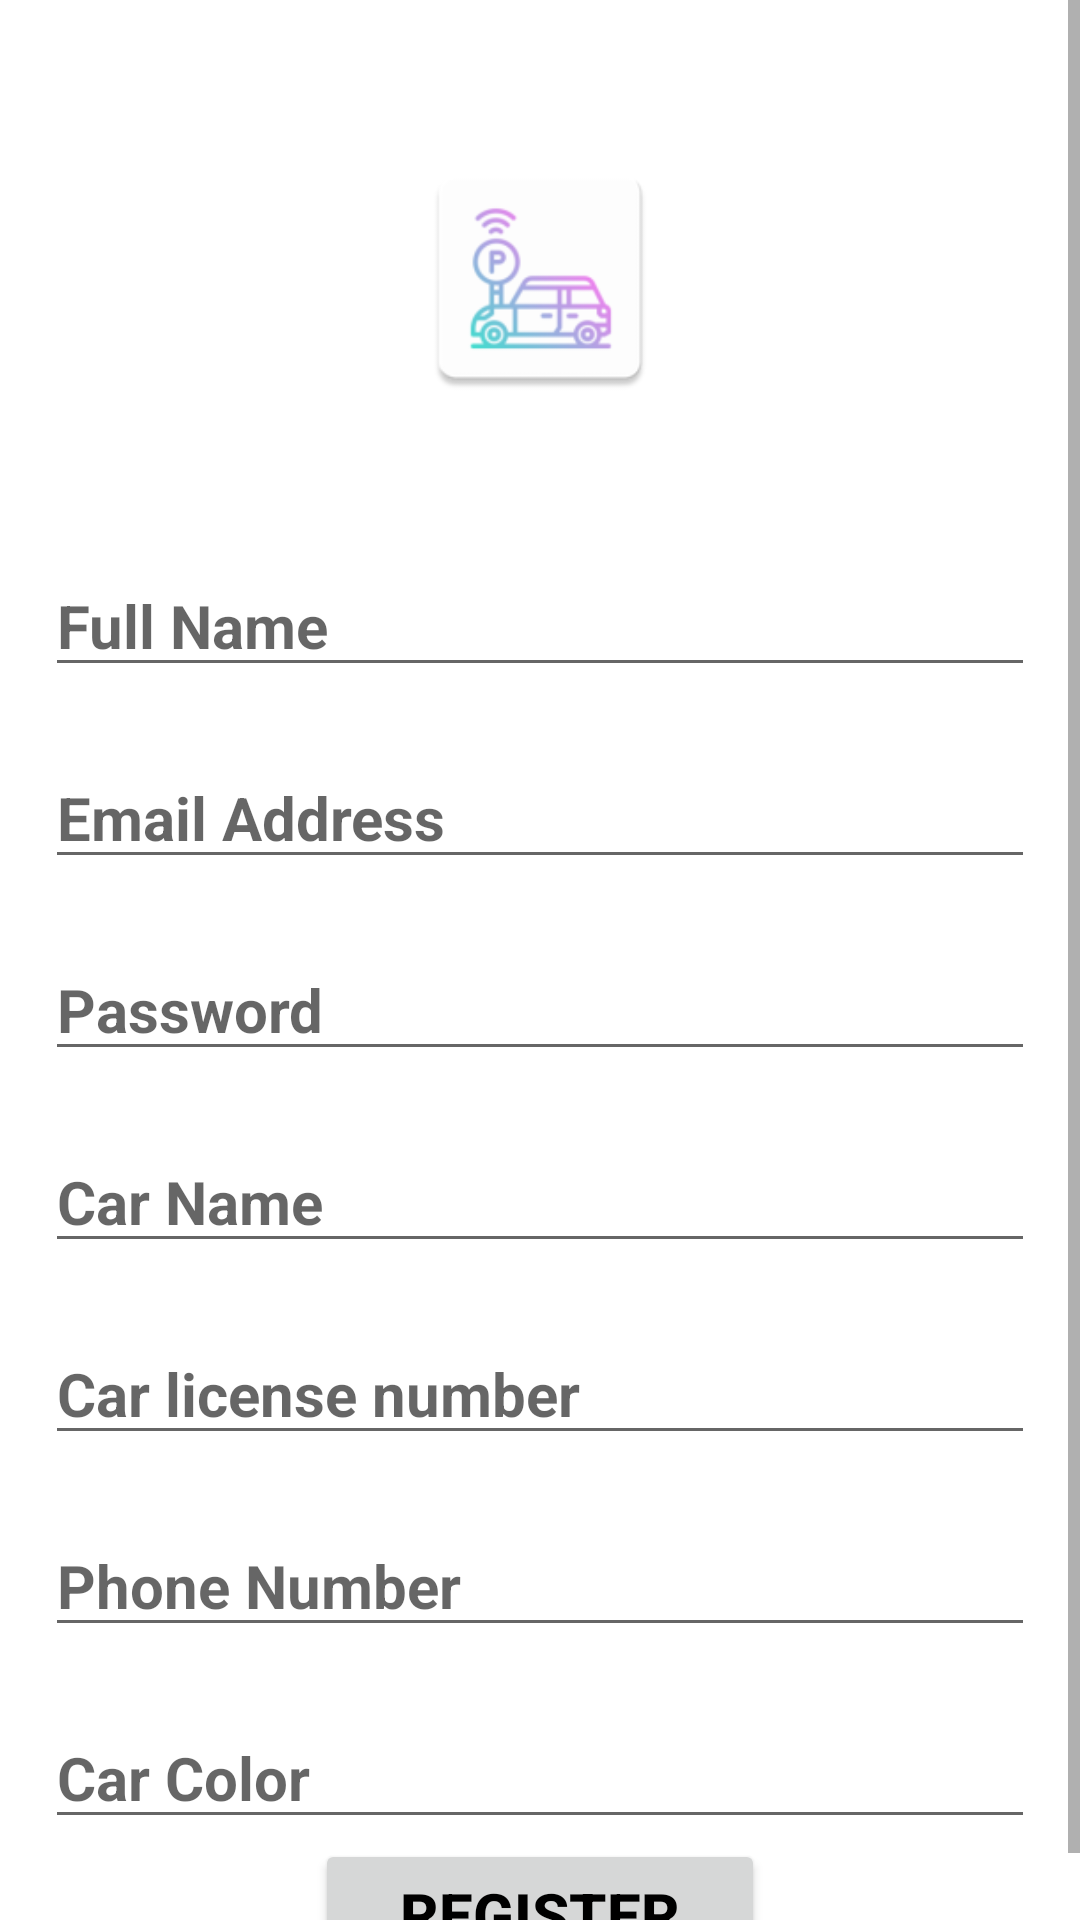

Screen size 1080px x 1920px. Icon name, then its box in pixels as (x1, y1, x2, y2):
car parking: (439, 188, 642, 385)
